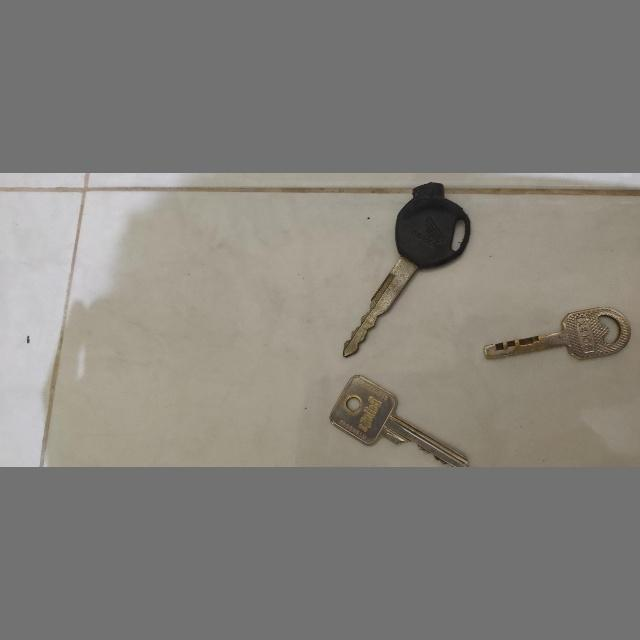Keys: (330, 180, 478, 364), (326, 370, 468, 468), (482, 306, 634, 366)
